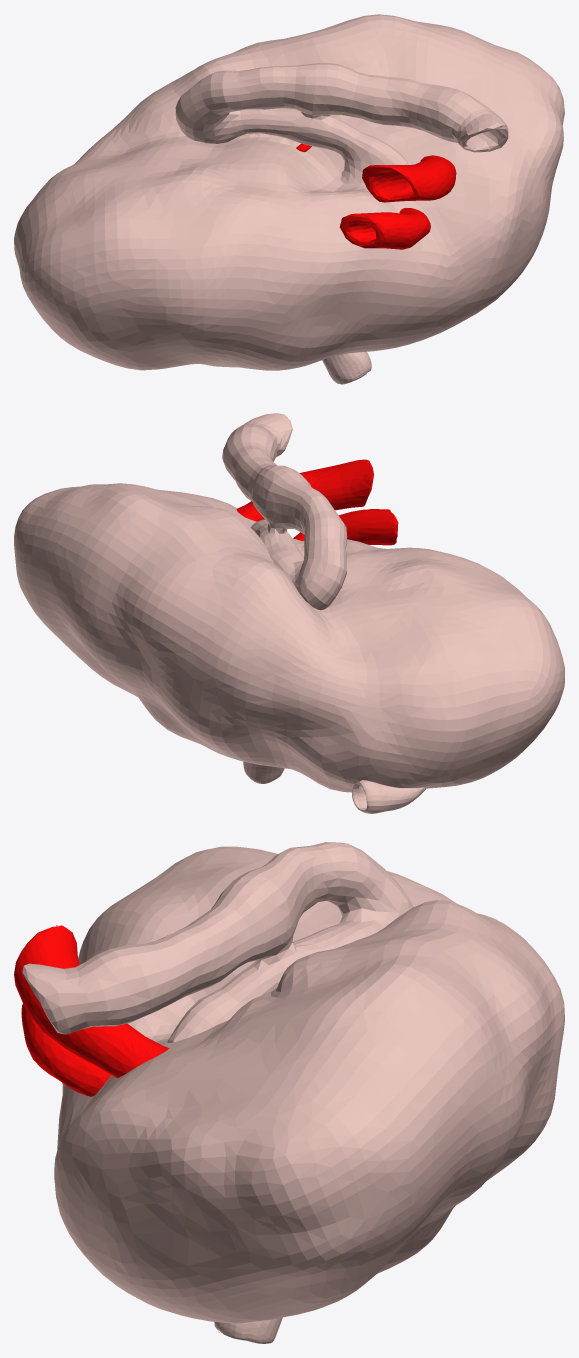
Rendered from NIH_F_Lymph_Node_0.6.glb.
3 views of the same model, one above another, from view 1: azimuth 30°, elevation 25°; view 2: azimuth 150°, elevation 25°; view 3: azimuth 270°, elevation 25° (orthographic). The views are drawn at different scales.
Visible parts, largest first — view 1: Yao_capsule_of_lymph_node, Yao_efferent_lymph_node, Yao_blood_vasculature, Yao_afferent_lymphatic_vessel; view 2: Yao_capsule_of_lymph_node, Yao_efferent_lymph_node, Yao_blood_vasculature, Yao_afferent_lymphatic_vessel; view 3: Yao_capsule_of_lymph_node, Yao_efferent_lymph_node, Yao_blood_vasculature, Yao_afferent_lymphatic_vessel.
Boxes of the visible parts, x1,y1,x2,y2 form: Yao_capsule_of_lymph_node: (14,14,564,370); Yao_efferent_lymph_node: (175,63,508,184); Yao_blood_vasculature: (296,143,456,249); Yao_afferent_lymphatic_vessel: (322,351,371,384); Yao_capsule_of_lymph_node: (14,483,564,792); Yao_efferent_lymph_node: (222,413,347,610); Yao_blood_vasculature: (236,459,398,545); Yao_afferent_lymphatic_vessel: (243,761,425,813); Yao_capsule_of_lymph_node: (54,846,564,1323); Yao_efferent_lymph_node: (22,842,413,1042); Yao_blood_vasculature: (14,925,169,1096); Yao_afferent_lymphatic_vessel: (214,1317,282,1343).
Size of the model in its own units: 0.0196 by 0.0113 by 0.0125.
